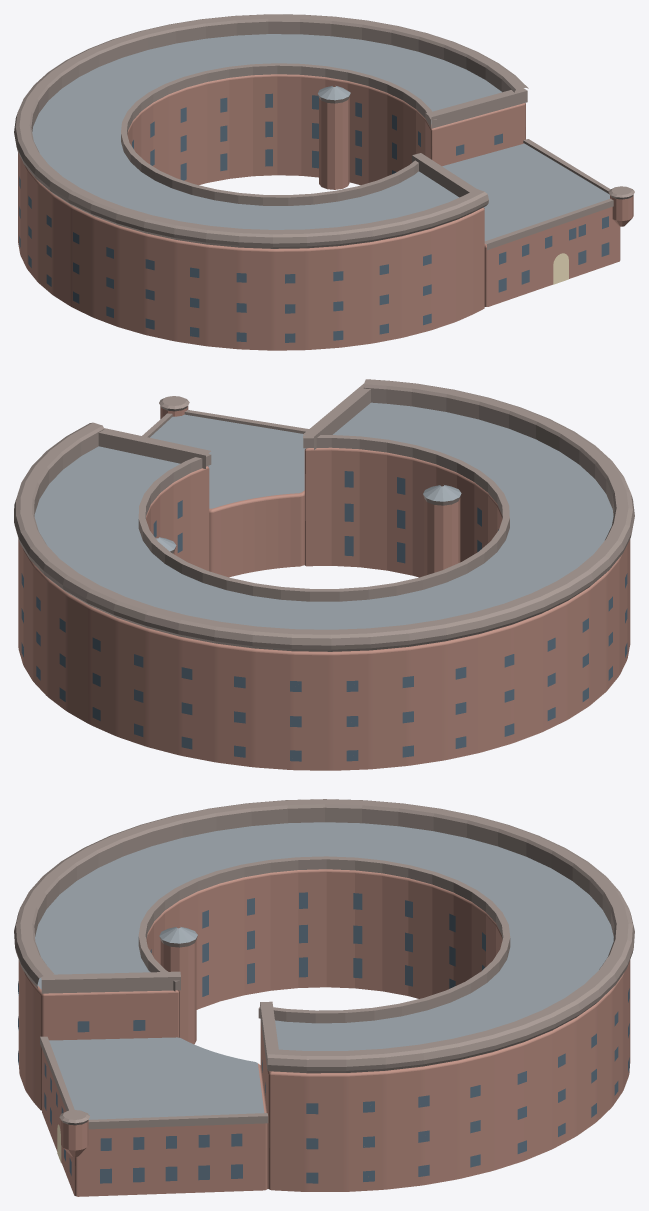
3 renders of one model, top to bottom at view 1: azimuth 30°, elevation 25°; view 2: azimuth 150°, elevation 25°; view 3: azimuth 270°, elevation 25°, orthographic. The views are drawn at different scales.
Visible parts, largest first — view 1: castle-williams; view 2: castle-williams; view 3: castle-williams.
Boxes of the visible parts, box(x1,y1,x2,y2) form: castle-williams: box(14, 14, 634, 350); castle-williams: box(14, 379, 634, 770); castle-williams: box(14, 799, 634, 1196).
Size of the model in its own units: 64.7 by 15 by 62.46.
